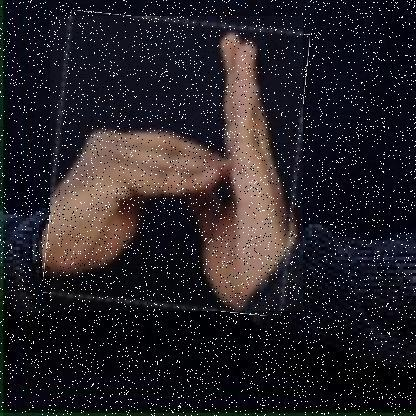Z: (49, 16, 303, 312)
